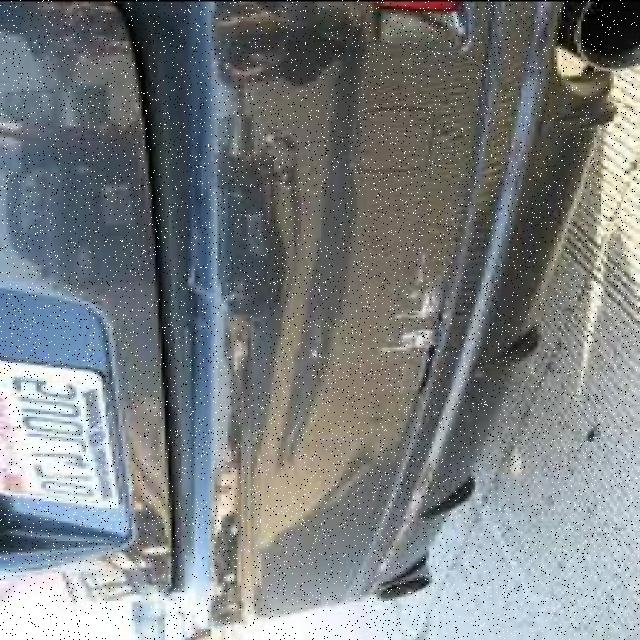damage: (371, 246, 449, 405)
